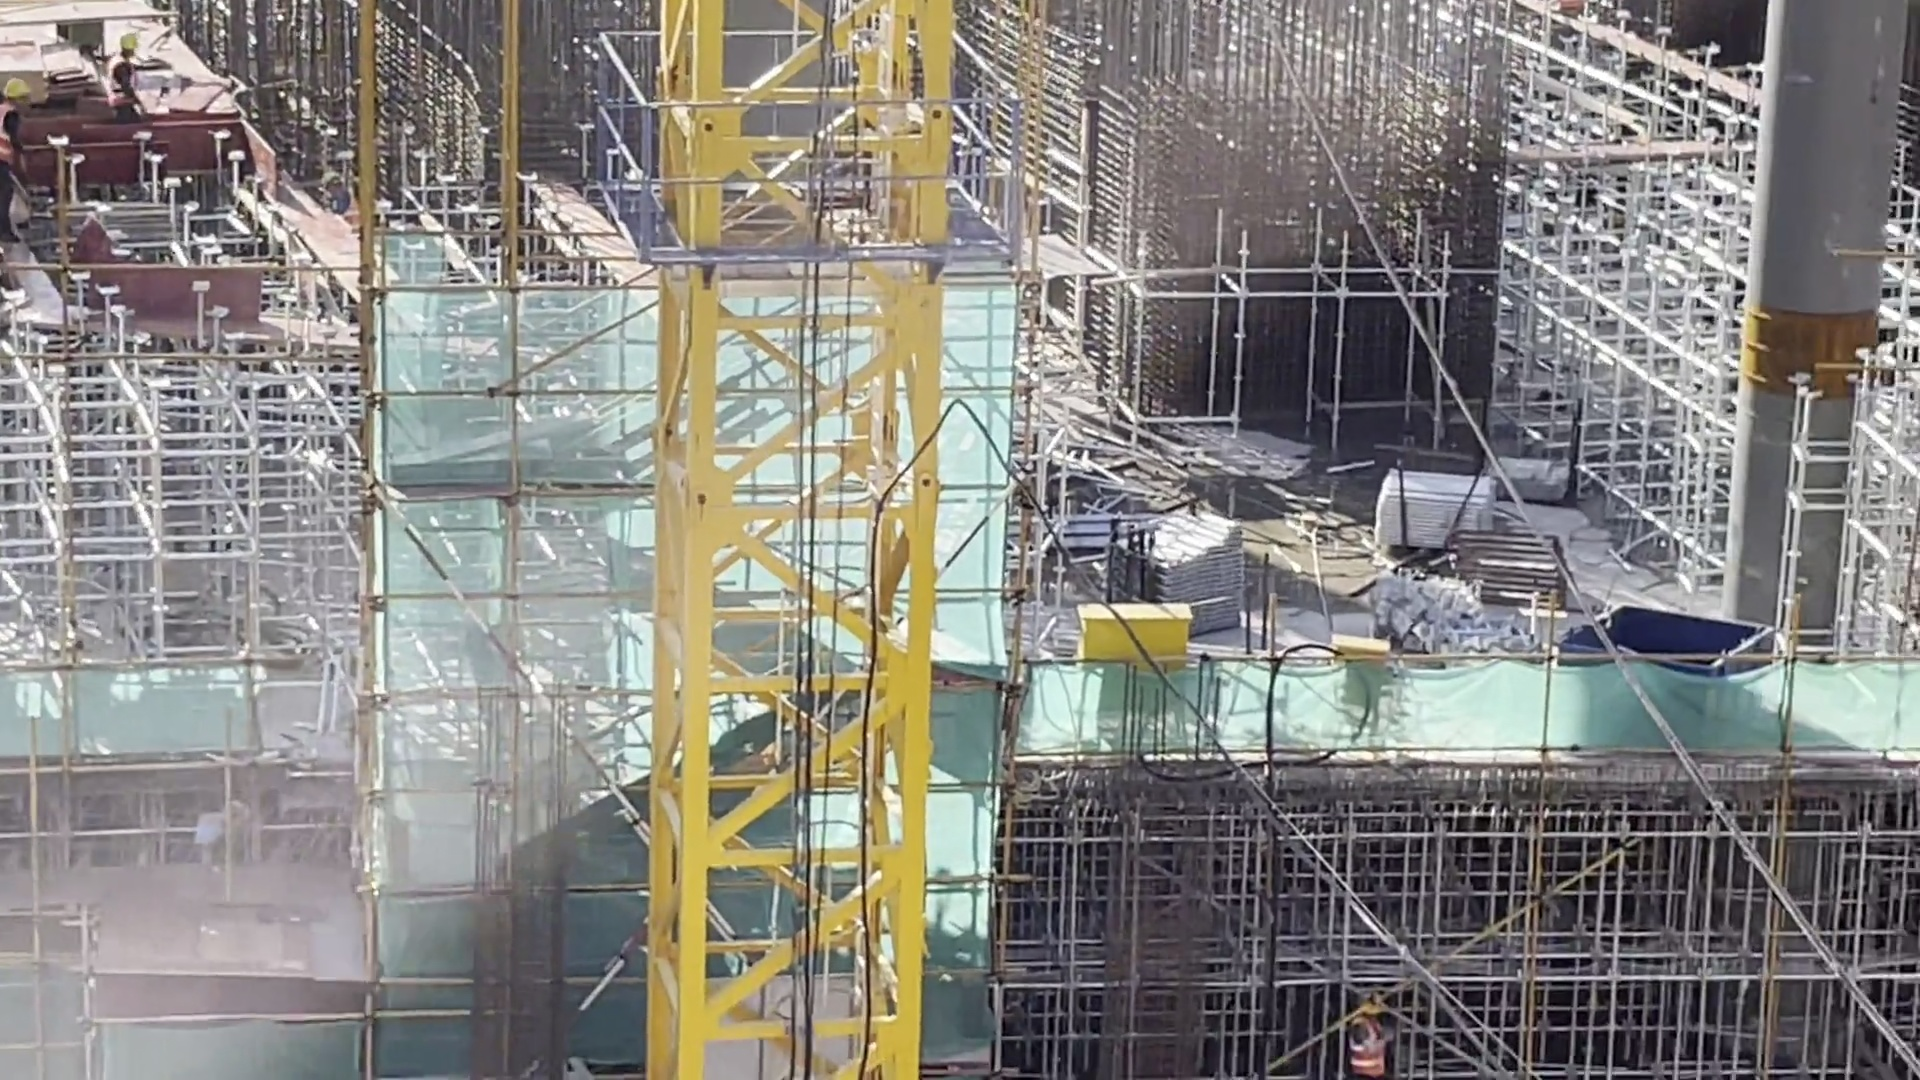ebox: (1088, 586, 1211, 717), (1336, 631, 1384, 727)
helmet: (1, 77, 23, 107), (316, 169, 343, 189), (113, 34, 143, 47), (1364, 1001, 1386, 1017)
hopper: (1563, 582, 1776, 717)
person: (1, 79, 39, 233), (323, 165, 386, 243), (1353, 988, 1391, 1080), (116, 23, 148, 113)
scaffold: (1371, 461, 1554, 582), (1071, 539, 1249, 647)
vest: (1346, 1016, 1392, 1080), (1, 107, 26, 167), (103, 64, 141, 97), (341, 196, 364, 232)
